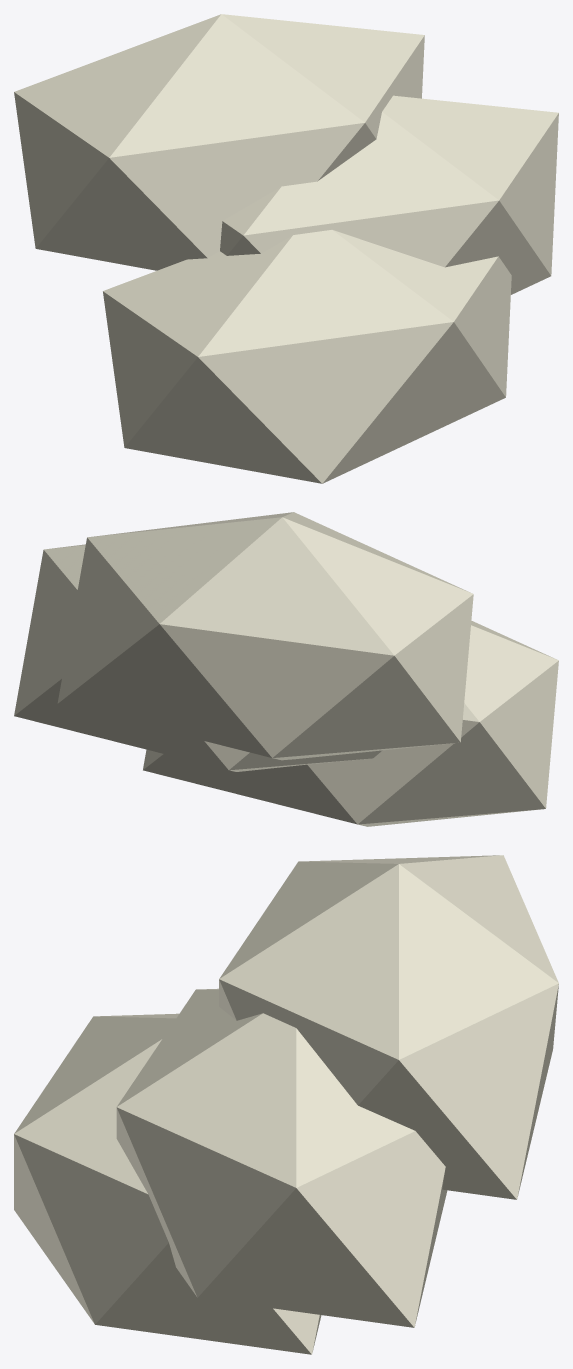
File: item_100_limestone_m.glb
The picture shows the model from 3 angles, top to bottom: view 1: azimuth 30°, elevation 25°; view 2: azimuth 150°, elevation 25°; view 3: azimuth 270°, elevation 25°; orthographic projection. The views are drawn at different scales.
Visible parts, largest first — view 1: item_100_limestone_m; view 2: item_100_limestone_m; view 3: item_100_limestone_m.
Boxes of the visible parts, left/top/right/bottom form: item_100_limestone_m: left=14, top=14, right=558, bottom=483; item_100_limestone_m: left=14, top=512, right=558, bottom=826; item_100_limestone_m: left=14, top=855, right=558, bottom=1354.
Size of the model in its own units: 0.3737 by 0.2889 by 0.3189.
